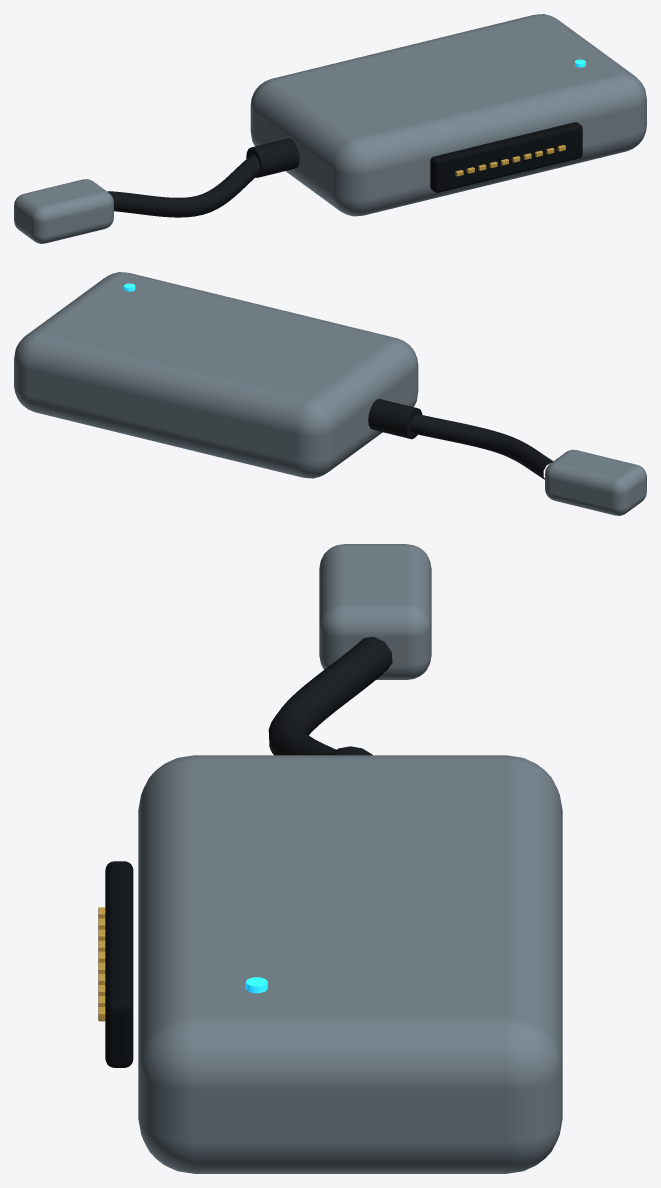
File: display-adapter.glb
3 renders of one model, top to bottom at view 1: azimuth 30°, elevation 25°; view 2: azimuth 150°, elevation 25°; view 3: azimuth 270°, elevation 25°, orthographic. The views are drawn at different scales.
Visible parts, largest first — view 1: Display adapter enclosure, HDMI output, USB-C plug, USB-C lead, Cable relief; view 2: Display adapter enclosure, USB-C plug, USB-C lead, Cable relief; view 3: Display adapter enclosure, USB-C plug, USB-C lead, HDMI output.
Boxes of the visible parts, bbox=[...] form: Display adapter enclosure: bbox=[250, 14, 646, 216]; HDMI output: bbox=[430, 122, 582, 192]; USB-C plug: bbox=[14, 179, 113, 243]; USB-C lead: bbox=[107, 154, 260, 217]; Cable relief: bbox=[246, 138, 299, 177]; Display adapter enclosure: bbox=[14, 272, 418, 478]; USB-C plug: bbox=[545, 449, 646, 515]; USB-C lead: bbox=[410, 414, 553, 479]; Cable relief: bbox=[368, 399, 422, 439]; Display adapter enclosure: bbox=[138, 755, 562, 1173]; USB-C plug: bbox=[319, 544, 431, 679]; USB-C lead: bbox=[268, 636, 392, 755]; HDMI output: bbox=[105, 861, 133, 1067].
Size of the model in its own units: 2.12 by 0.291 by 0.744.
